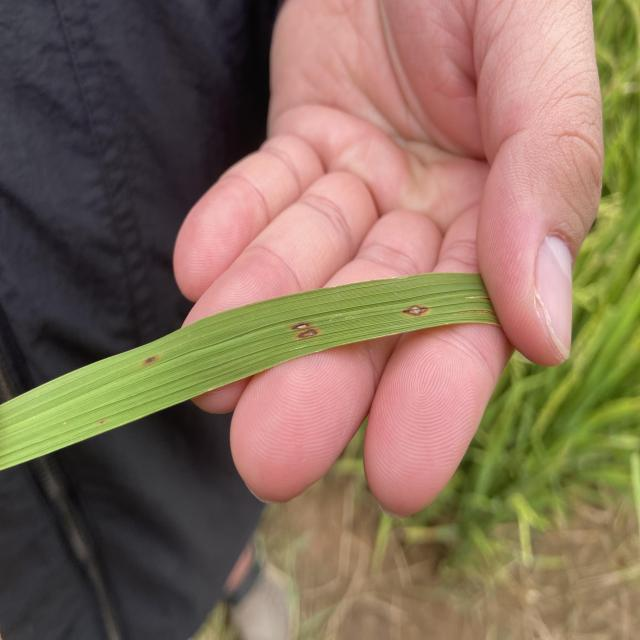Dao on: (403, 305, 430, 317), (295, 329, 321, 339), (290, 323, 310, 330)
